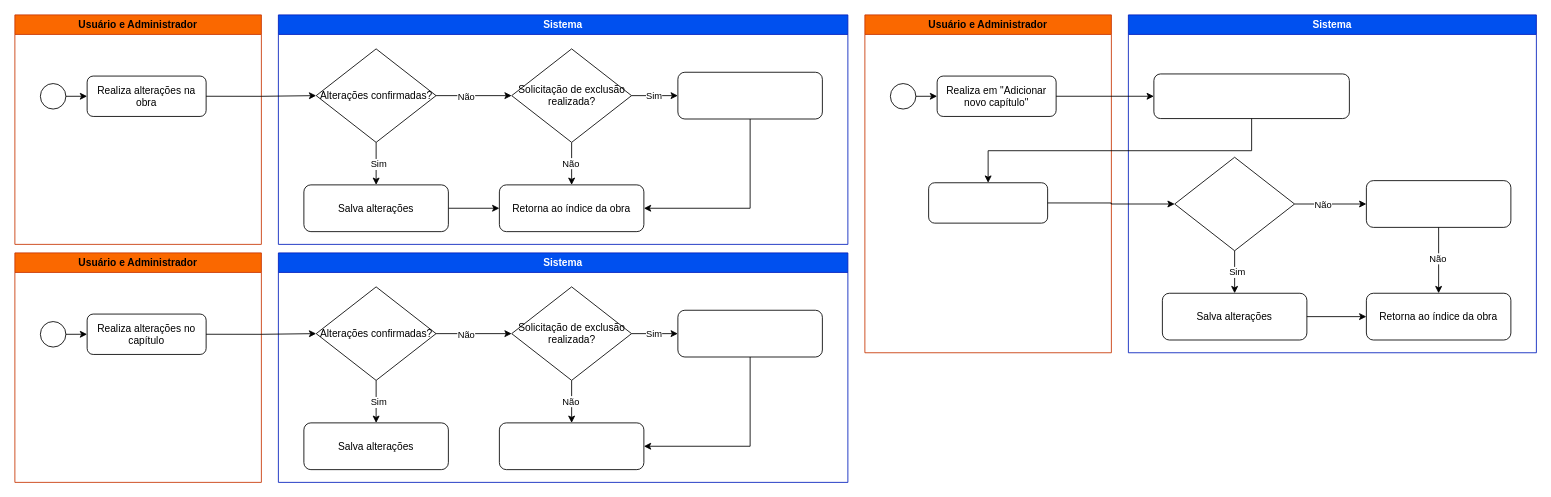
This 1551x497 diagram has some shape labels left out. Here are the shapes that lost their labels. From the top down, the centre of each, then its label:
point 749,95: Exclui a obra
point 1251,96: Carrega a view de criação de um novo capítulo para a respectiva obra
point 988,202: Preenche os campos
point 1234,203: Criação confirmada?
point 1438,203: Descarta criação
point 749,333: Exclui o capítulo
point 571,446: Retorna ao índice do capítulo
